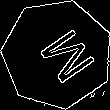M_SW: (23, 21, 91, 87)
